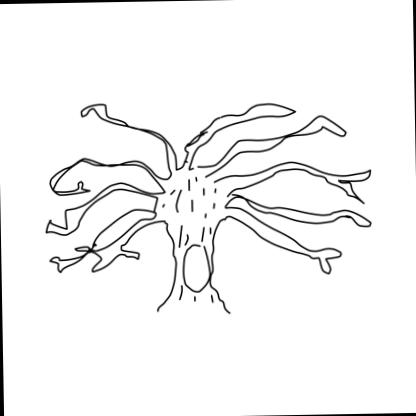knot: (181, 244, 211, 292)
trunk_bark: (166, 193, 218, 294)
